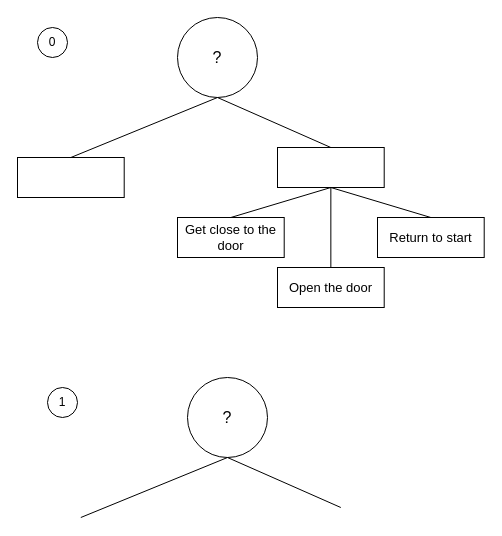
Image size: 502x536. Some labels were removed from this diagram. The box of each missing label's shape, as (x1, y1, x2, y2) in pixels:
------> Patrol: (276, 146, 384, 188)
Check if door is open: (16, 156, 124, 198)
